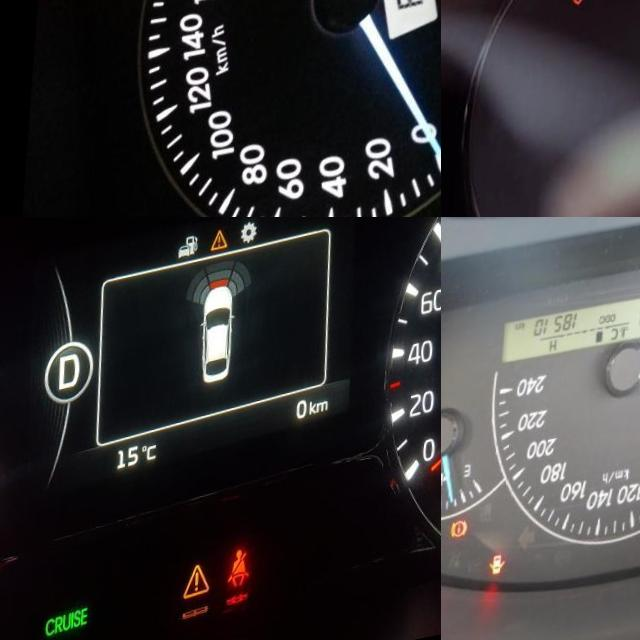Central Warning lamp: (191, 572, 219, 612), (212, 239, 231, 263)
